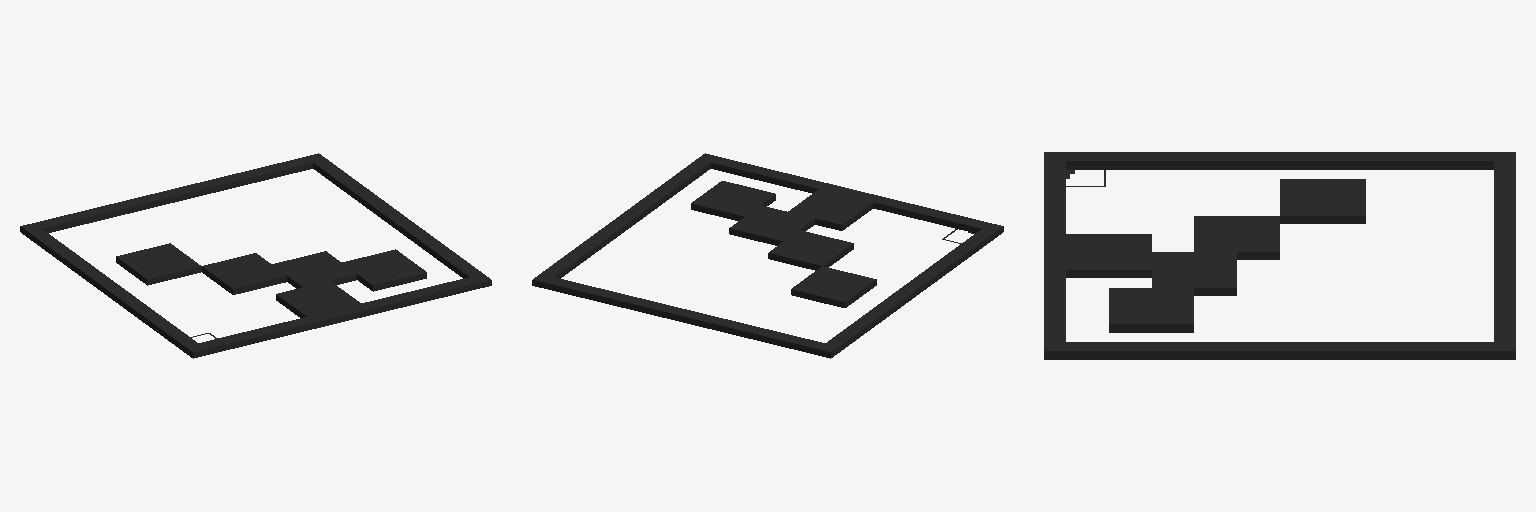
The robot description file, URDF, robot "Room32":
<robot name="Room32">
    <link name="_name">
        <visual> 
            <origin rpy="0.0 0.0 0.0" xyz="-0.5011460157631973 -0.4196233584229753 -0.010000000000000002" />
                <geometry>
                    <mesh filename="Room32/Room32.obj" scale="1 1 0.1" />
                </geometry>

            <material name="black">
                <color rgba="0.2 0.2 0.2 0.95" />
            </material>
        </visual>

       <collision concave="yes" name="collision_0">
            <origin rpy="0.0 0.0 0.0" xyz="-0.5011460157631973 -0.4196233584229753 -0.010000000000000002" />
            <geometry>
                <mesh filename="Room32/Room32_vhacd.obj" scale="1 1 0.1" />
            </geometry>
        </collision>

        <inertial> 
            <mass value="0" />
            <inertia ixx="0" ixy="0" ixz="0" iyy="0" iyz="0" izz="0" />
        </inertial> 
    </link>
</robot>

--- Facts derived from the render (not from the file) ---
Views: 3 orthographic renders of the robot side by side, from view 1: azimuth 30°, elevation 25°; view 2: azimuth 150°, elevation 25°; view 3: azimuth 270°, elevation 25°.
Model Room32 with 1 links and 0 joints (none), rooted at _name, posed all joints at 0.
Links seen in each view (by area): view 1: _name; view 2: _name; view 3: _name.
Boxes of the visible links, x1,y1,x2,y2 form: _name: [20, 153, 491, 358]; _name: [532, 153, 1003, 358]; _name: [1044, 152, 1515, 359].
Bounding box of the posed robot: 1 × 1 × 0.02 m (x, y, z).
1 mesh visuals loaded from 1 distinct referenced files (1 OBJ).